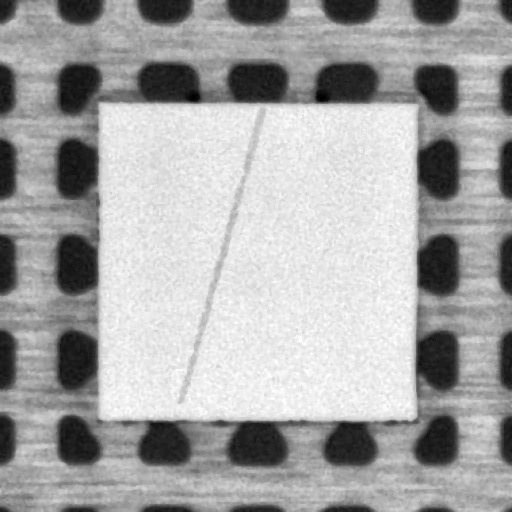DIE_CRACK: (180, 110, 260, 401)
